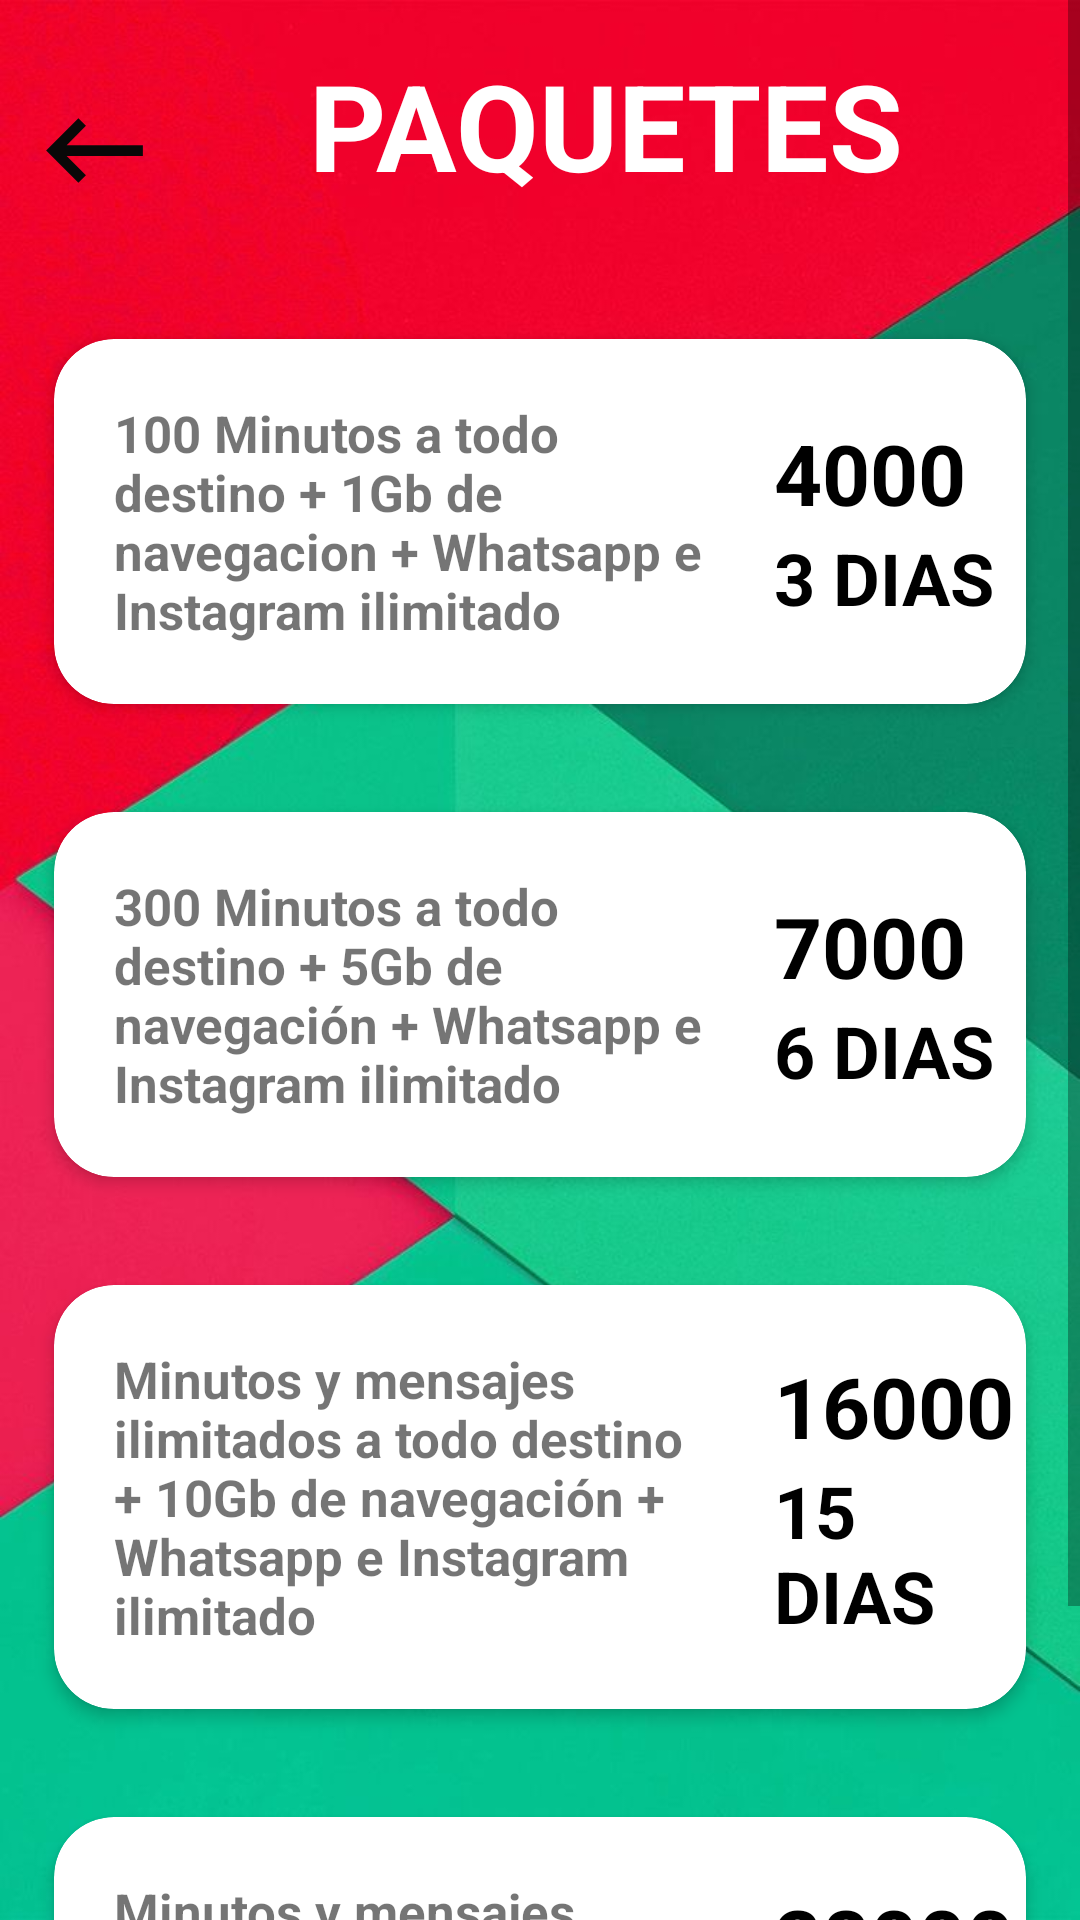

Icons on this 1080px x 1920px Android screen, each with the point to tap as (x=x, y=y):
retroceder: (x=94, y=150)
